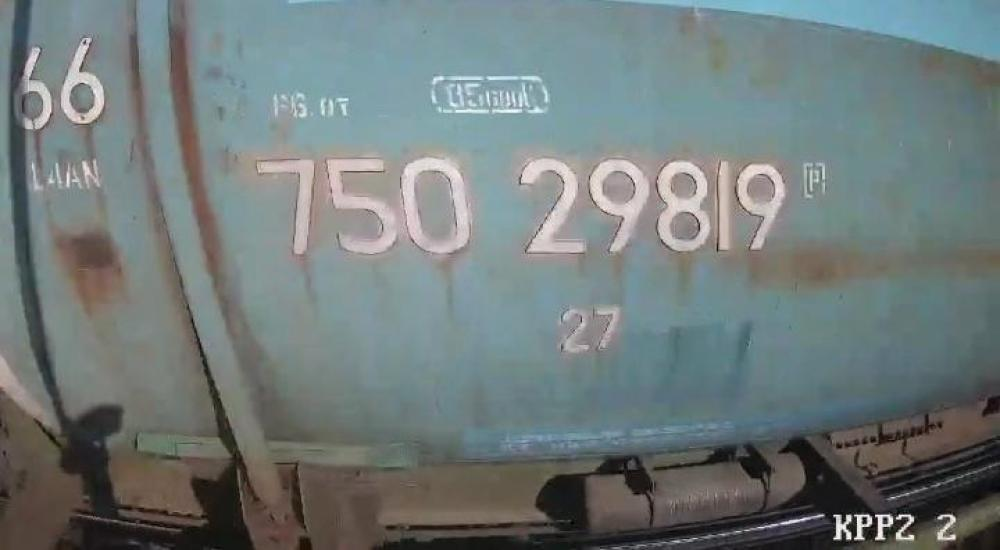Wagon-number: (249, 148, 792, 261)
